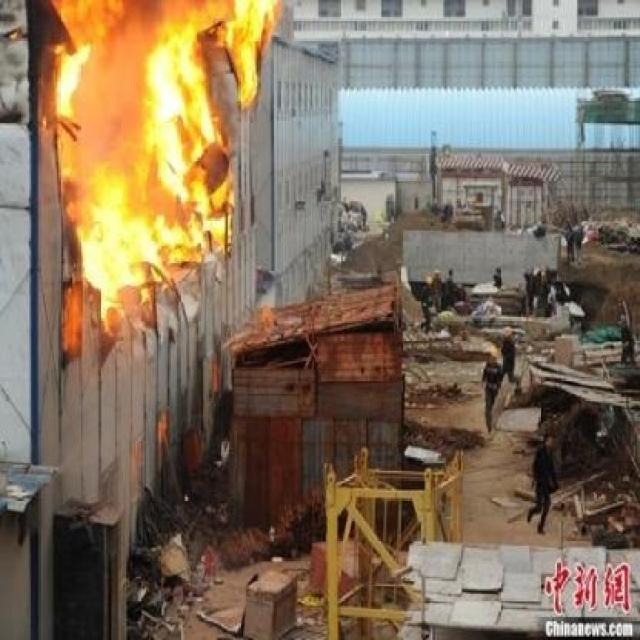Fire: (49, 2, 280, 324)
